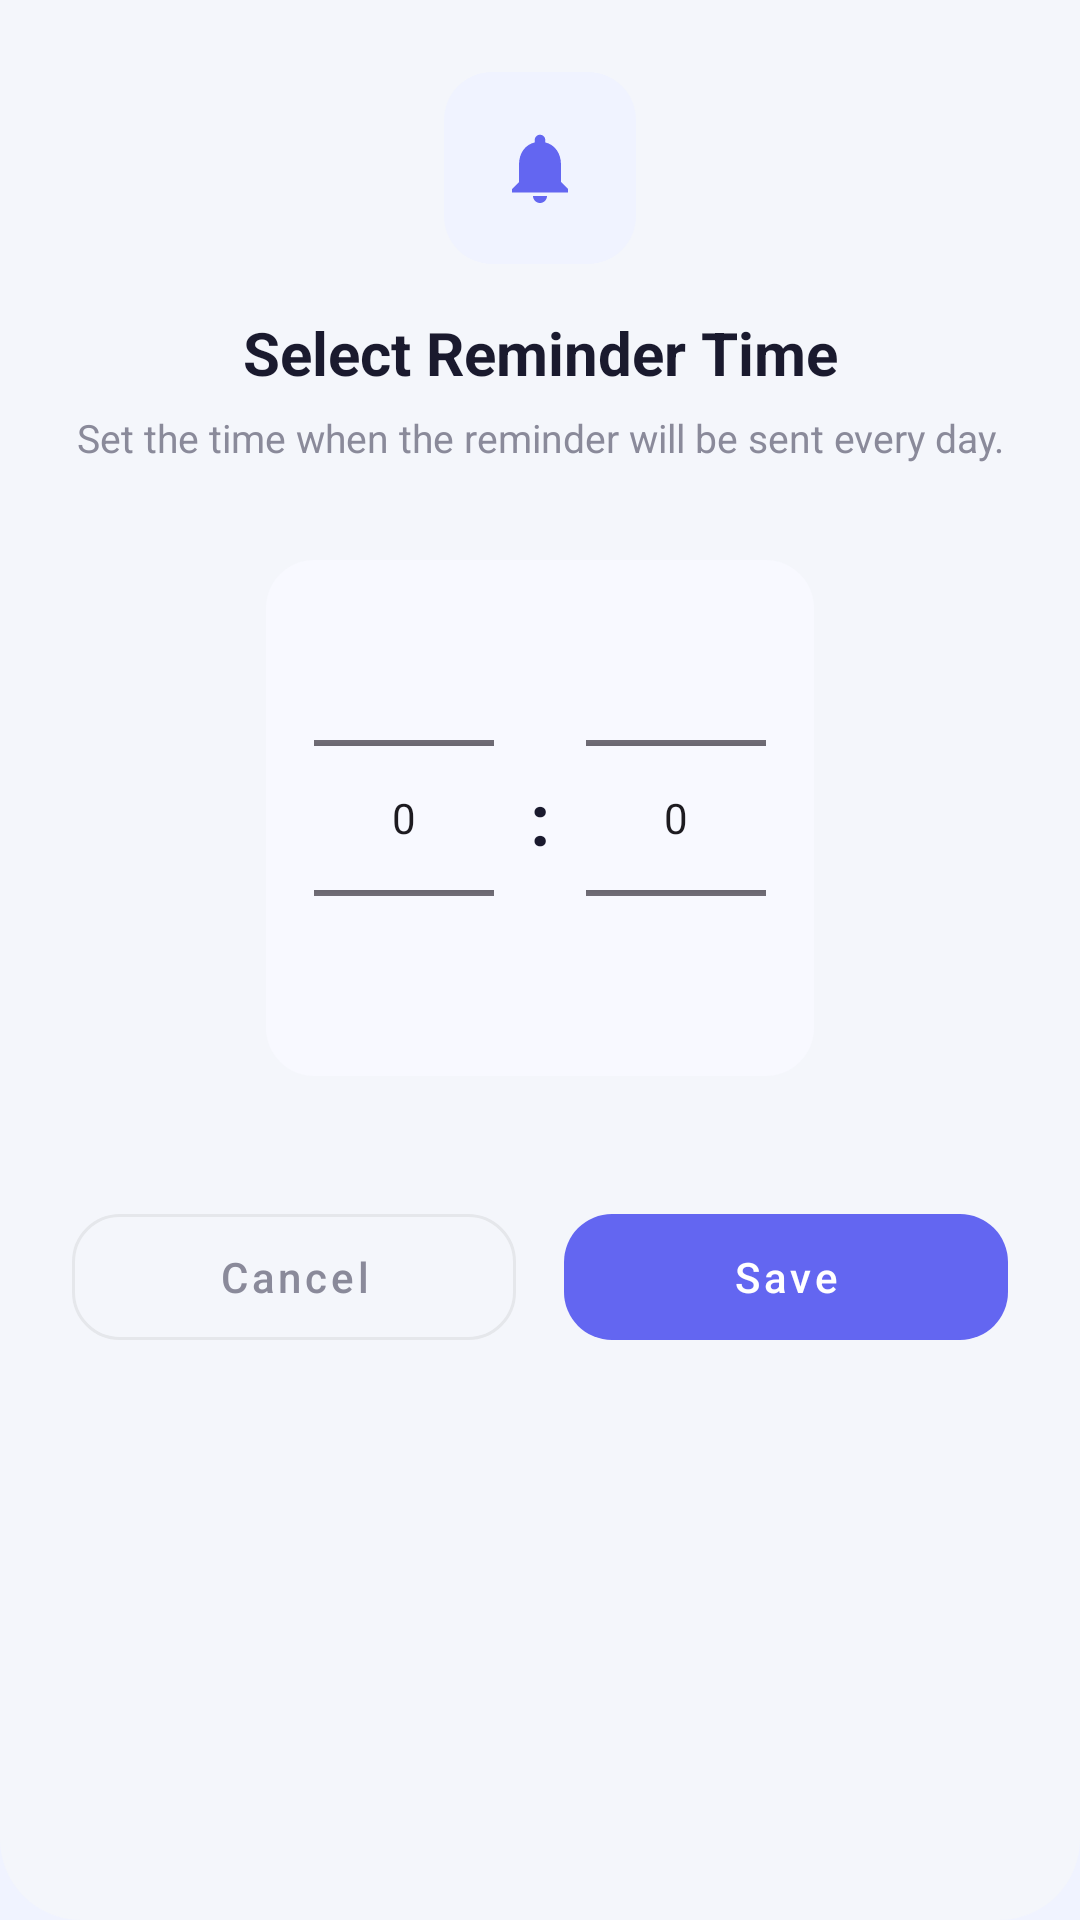

Icon bounding boxes for this 1080×1920 phone screenshot, format (x1, y1, x2, y2):
notif bell: (512, 134, 568, 203)
